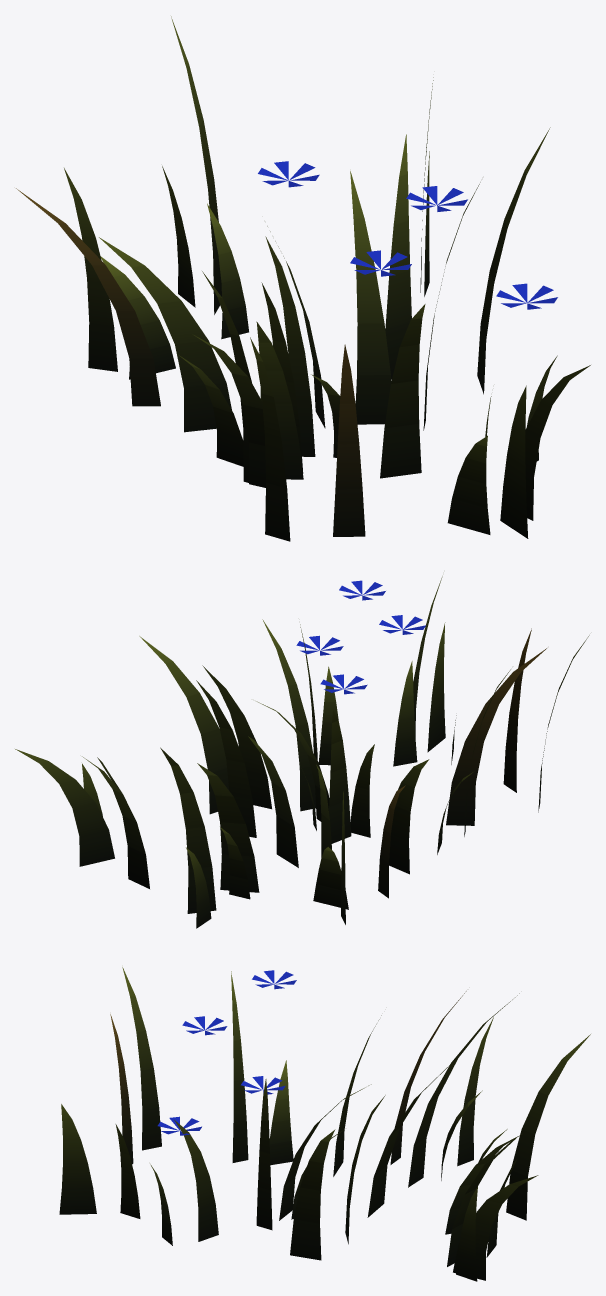
File: SM_V2_Flowers_Blue.fbx
The picture shows the model from 3 angles, top to bottom: view 1: azimuth 30°, elevation 25°; view 2: azimuth 150°, elevation 25°; view 3: azimuth 270°, elevation 25°; orthographic projection. The views are drawn at different scales.
Parts seen in each view (by area): view 1: SM_V2_Flowers_Blue; view 2: SM_V2_Flowers_Blue; view 3: SM_V2_Flowers_Blue.
Boxes of the visible parts, left/top/right/bottom form: SM_V2_Flowers_Blue: left=16, top=16, right=590, bottom=541; SM_V2_Flowers_Blue: left=15, top=576, right=589, bottom=928; SM_V2_Flowers_Blue: left=59, top=967, right=590, bottom=1281.
Size of the model in its own units: 0.6122 by 0.3459 by 0.8945.
